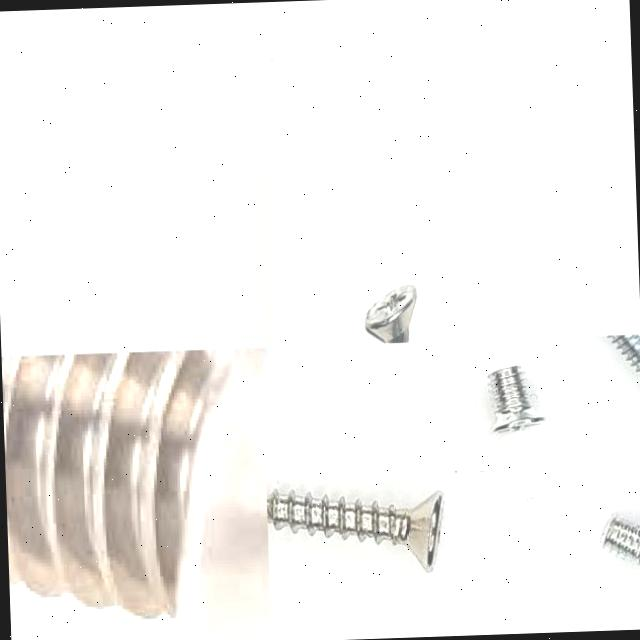Screw: (1, 347, 271, 640), (266, 490, 441, 573), (488, 366, 546, 433), (365, 283, 416, 343), (603, 517, 640, 566)
